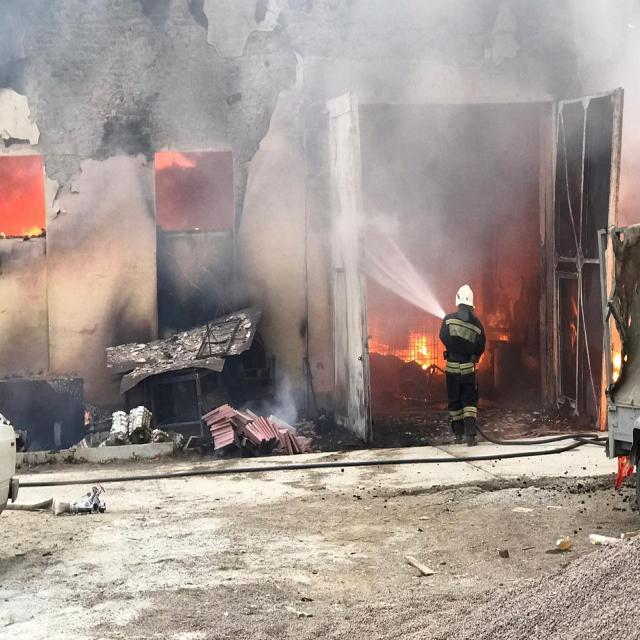Fire: (403, 330, 435, 370), (22, 216, 48, 240)
Smoke: (336, 0, 591, 306)
